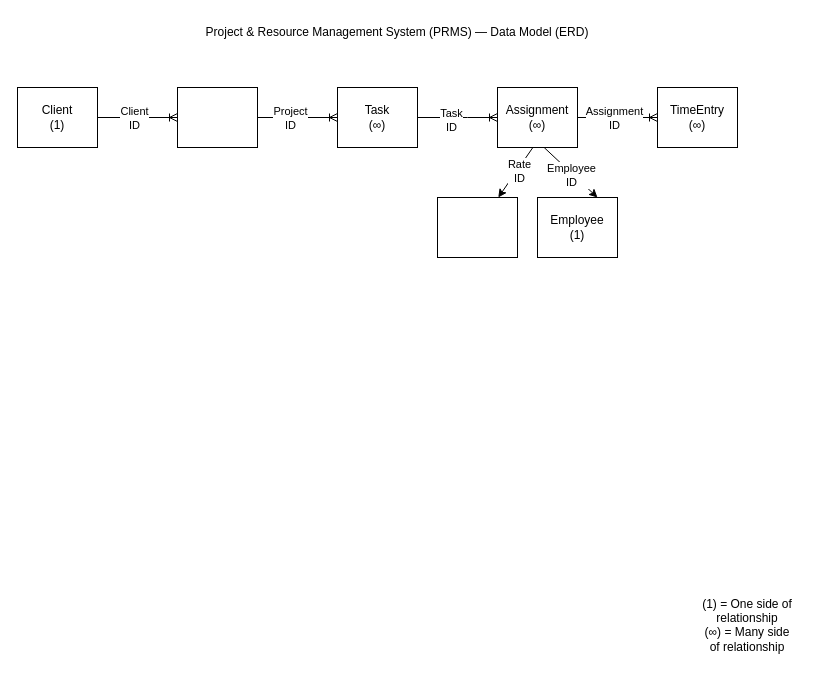
This 815x685 diagram has some shape labels left out. The shapes that lost their labels are listed below. From the top down, each one's centre as x and y in pixels, then its label:
At (x=217, y=117): "Project (∞)".
At (x=477, y=227): "RateCard (1)".
